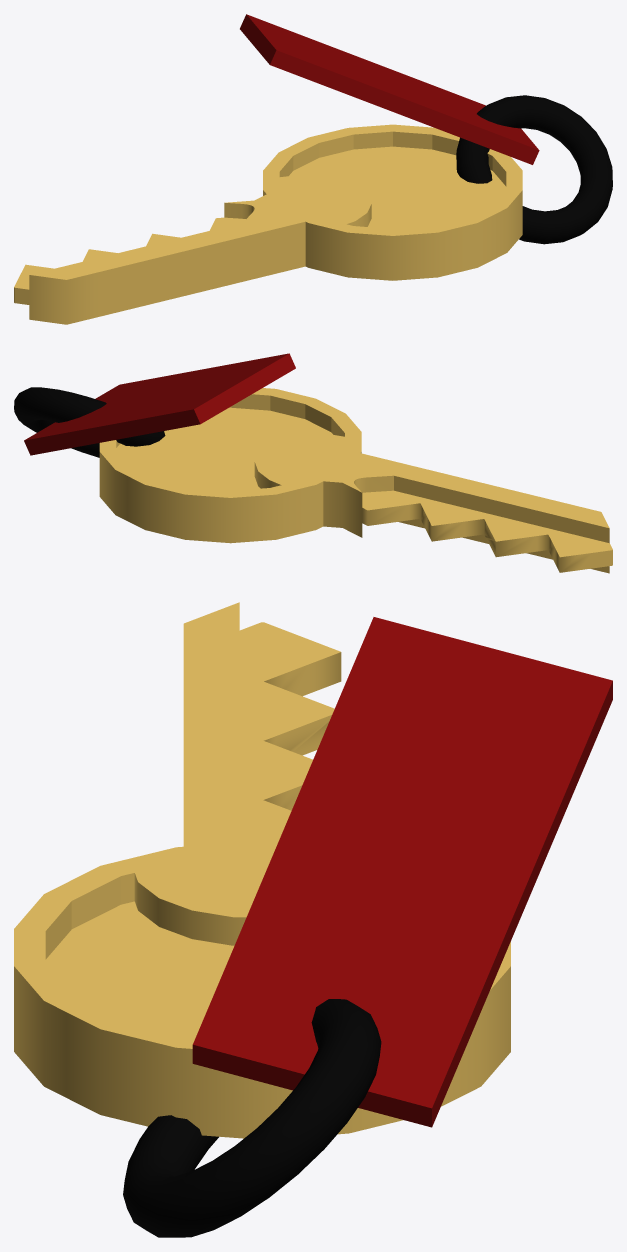
Rendered from ROOM KEYS - RED.fbx.
3 views of the same model, one above another, from view 1: azimuth 30°, elevation 25°; view 2: azimuth 150°, elevation 25°; view 3: azimuth 270°, elevation 25° (orthographic). The views are drawn at different scales.
Visible parts, largest first — view 1: Cylinder001, Box001, Box002, Torus001, Cylinder002; view 2: Cylinder001, Box001, Box002, Cylinder002, Torus001; view 3: Box002, Cylinder001, Box001, Torus001, Cylinder002.
Part boxes in pixels (left/top/right/bottom): Cylinder001: left=263, top=124, right=522, bottom=280; Box001: left=14, top=190, right=317, bottom=324; Box002: left=240, top=14, right=539, bottom=164; Torus001: left=456, top=95, right=612, bottom=244; Cylinder002: left=270, top=175, right=371, bottom=226; Cylinder001: left=99, top=388, right=361, bottom=543; Box001: left=307, top=449, right=612, bottom=573; Box002: left=24, top=353, right=295, bottom=455; Cylinder002: left=254, top=434, right=355, bottom=488; Torus001: left=14, top=387, right=165, bottom=457; Box002: left=192, top=617, right=612, bottom=1127; Cylinder001: left=14, top=841, right=510, bottom=1138; Box001: left=183, top=602, right=341, bottom=860; Torus001: left=123, top=999, right=381, bottom=1237; Cylinder002: left=134, top=848, right=274, bottom=945.
Bounding box in the file's own units: 10.31 × 3.41 × 4.75.
